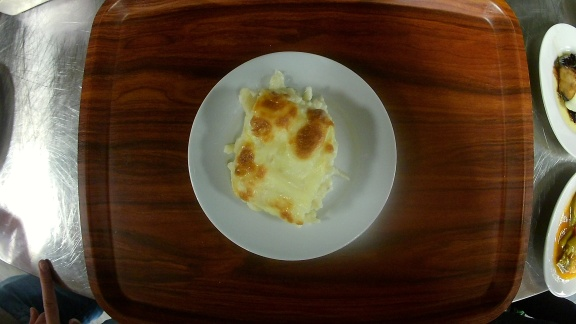firinmakarna: (185, 49, 400, 262)
